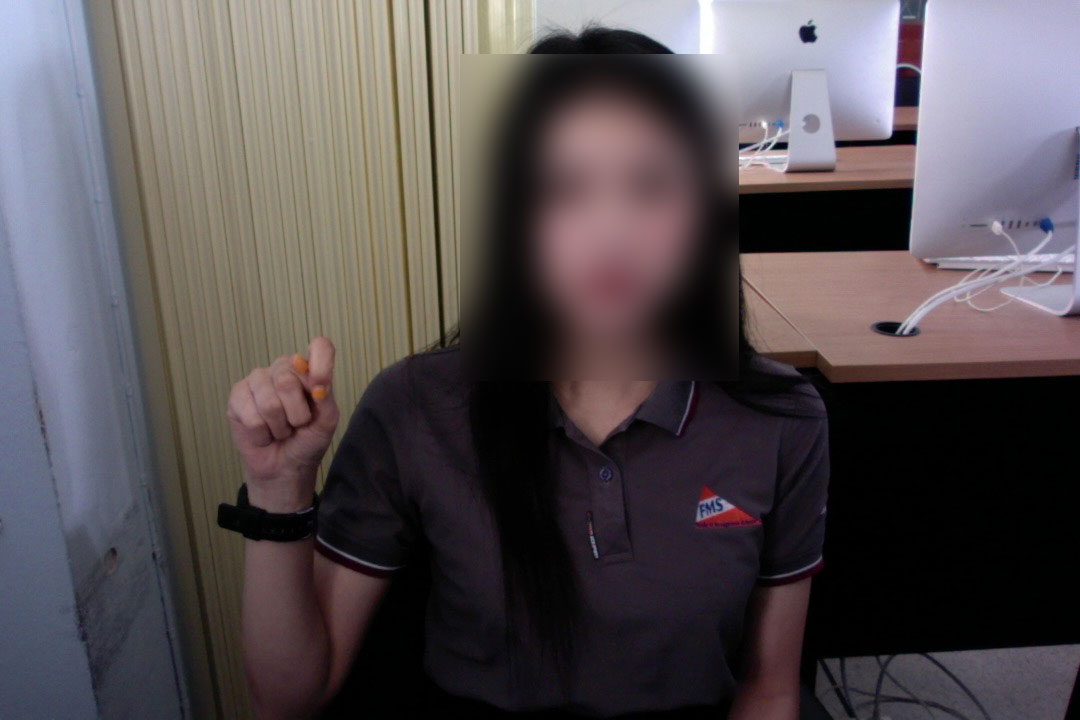tor: (221, 330, 340, 502)
